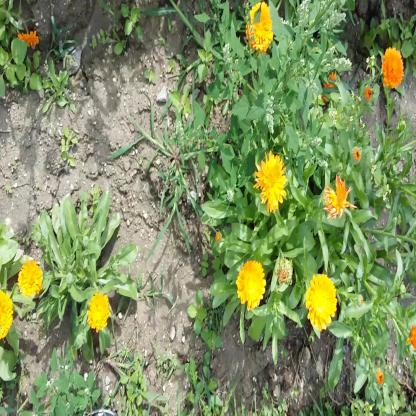marigold: (255, 153, 287, 209), (306, 274, 337, 328), (237, 260, 266, 306), (247, 4, 272, 49), (18, 262, 42, 299), (86, 293, 108, 331), (319, 65, 340, 104), (382, 50, 403, 86), (16, 26, 40, 50)
